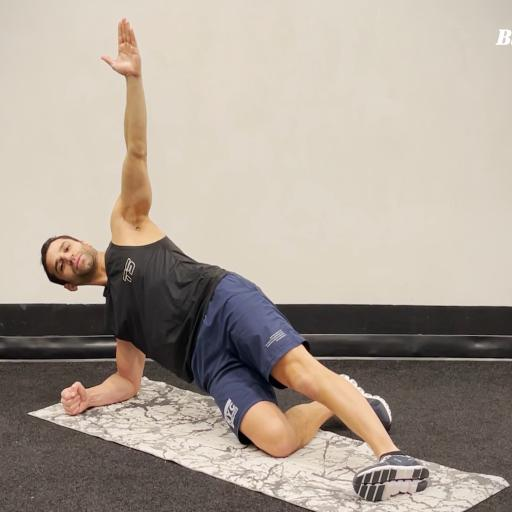Normal_Lunges: (1, 2, 512, 512)
